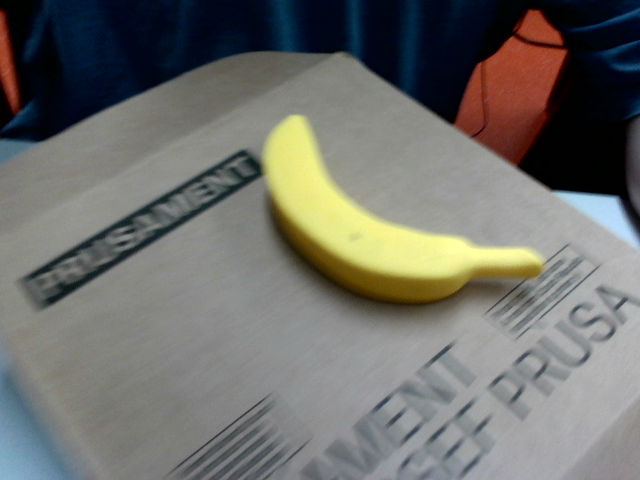banana: (222, 106, 547, 368)
